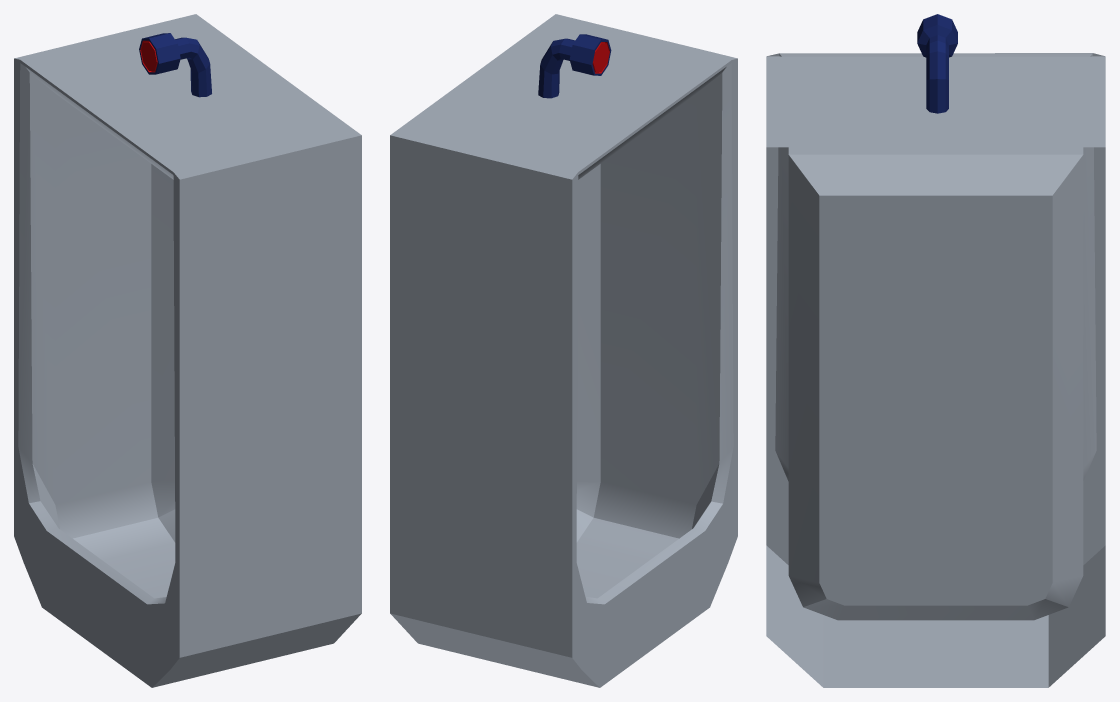
Rendered from Mingitorio.fbx.
3 views of the same model, side by side, from view 1: azimuth 30°, elevation 25°; view 2: azimuth 150°, elevation 25°; view 3: azimuth 270°, elevation 25° (orthographic). The views are drawn at different scales.
Visible parts, largest first — view 1: pCube7, pCylinder1; view 2: pCube7, pCylinder1; view 3: pCube7, pCylinder1.
Part boxes in pixels (box(x1,y1,x2,y2)): pCube7: box(14, 14, 361, 687); pCylinder1: box(139, 33, 211, 97); pCube7: box(390, 14, 737, 687); pCylinder1: box(538, 34, 611, 98); pCube7: box(766, 53, 1105, 687); pCylinder1: box(917, 14, 957, 113).
Size of the model in its own units: 0.3462 by 1.08 by 0.5456.
